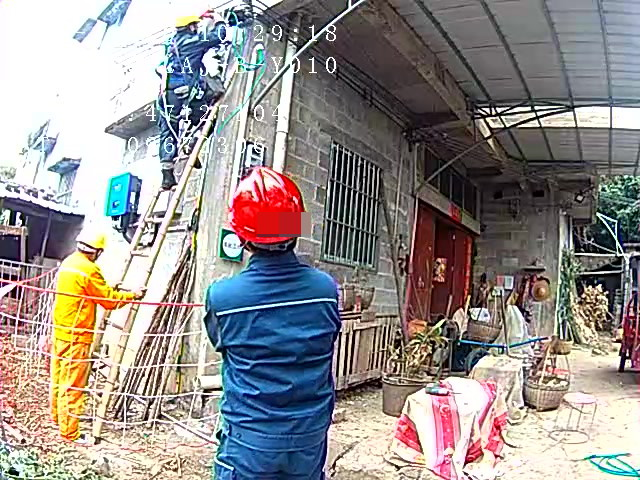downsuit: (158, 84, 214, 157), (213, 447, 333, 480)
halt: (231, 171, 306, 251), (73, 226, 107, 260), (175, 14, 203, 32)
hand: (131, 287, 148, 299)
inear: (93, 245, 105, 266)
person: (202, 170, 348, 480), (47, 223, 142, 443), (158, 14, 224, 188)
safebelt: (159, 31, 231, 140)
support: (44, 220, 155, 446)
upsuit: (203, 257, 343, 437), (169, 30, 222, 81)
worksign: (216, 226, 245, 266)
ydownsuit: (49, 337, 90, 440)
yupsuit: (60, 252, 132, 334)
